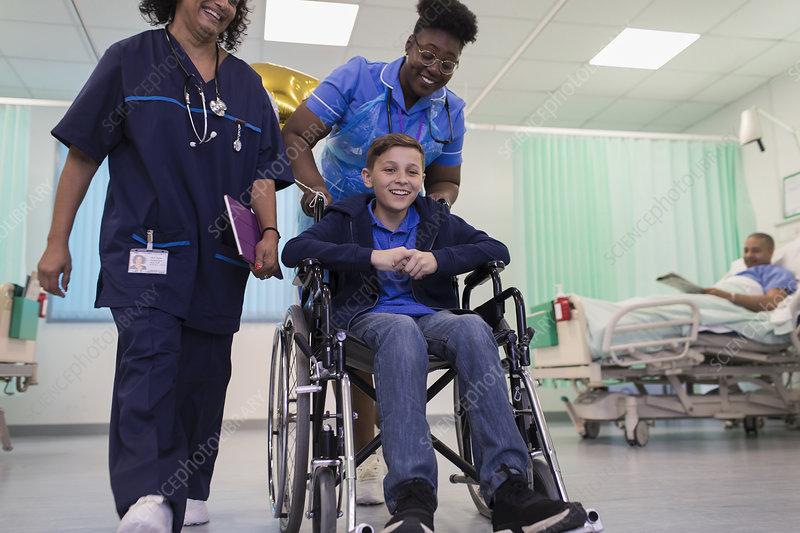wheelchair: (266, 133, 603, 533)
